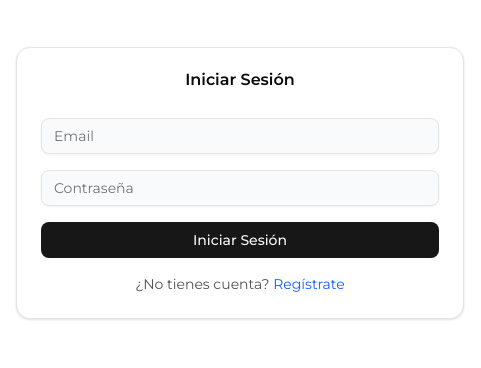
Test case: LoginForm › should handle unified login failure
In the field with placeholder "Email": (240, 136) [41, 118, 439, 154], type "test@example.com"
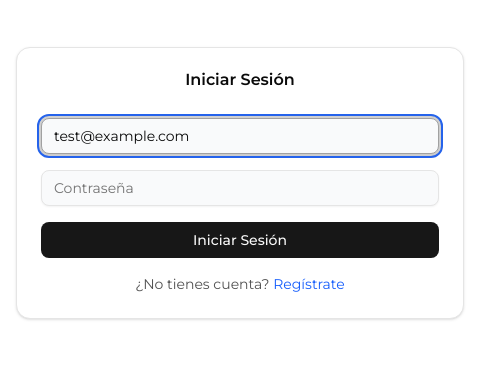
In the password field with placeholder "Contraseña": (240, 188) [41, 170, 439, 206], type "password123"
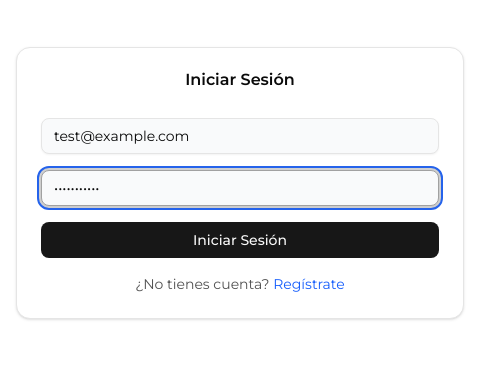
Click the button "Iniciar Sesión": (240, 240) [41, 222, 439, 258]
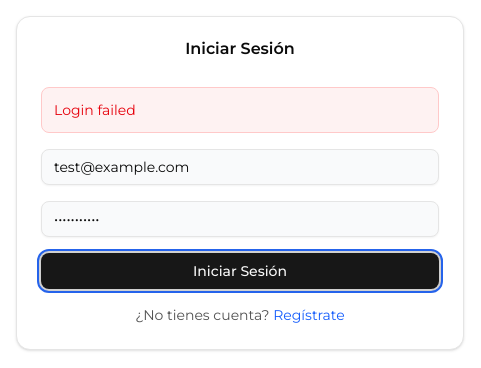
Now the text "Login failed" is shown, box [41, 87, 439, 133]
